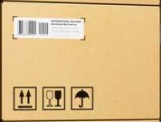stock: (1, 1, 161, 119)
